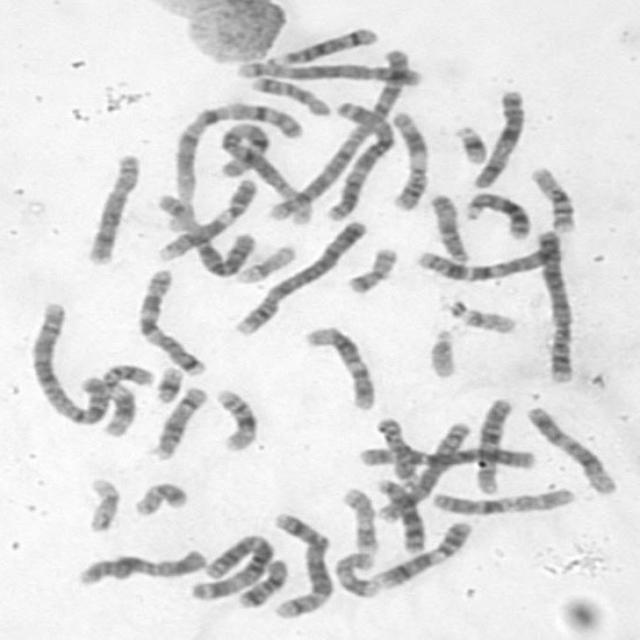A1: (168, 95, 314, 227), (212, 114, 316, 224)
A2: (251, 45, 411, 227), (21, 295, 113, 425)
A3: (317, 93, 395, 221), (184, 527, 276, 603)
B4: (227, 213, 371, 338), (528, 222, 578, 386)
B5: (265, 507, 336, 620), (230, 54, 425, 87)
C10: (424, 481, 578, 516), (468, 392, 516, 496)
C11: (93, 357, 156, 438), (383, 106, 431, 212)
C12: (519, 399, 620, 496), (298, 319, 378, 412)
C6: (157, 196, 251, 278), (350, 439, 544, 472)
C7: (129, 263, 209, 377), (409, 230, 564, 284)
C8: (370, 416, 472, 524), (78, 147, 143, 266)
C9: (151, 173, 260, 263), (366, 514, 476, 591)
D13: (368, 472, 429, 555), (457, 184, 533, 241)
D14: (262, 20, 381, 67), (143, 380, 209, 461)
D15: (368, 411, 423, 487), (422, 188, 472, 264)
E16: (524, 160, 580, 233), (208, 382, 260, 452)
E17: (334, 481, 381, 554), (327, 546, 382, 600)
E18: (244, 72, 333, 118), (230, 554, 290, 610)
F19: (228, 238, 298, 284), (78, 471, 123, 534)
F20: (339, 240, 401, 295), (126, 475, 190, 517)
G21: (448, 118, 492, 166), (147, 360, 186, 404)
G22: (445, 296, 519, 336), (422, 320, 461, 380)
X: (466, 82, 527, 190), (70, 542, 209, 588)
